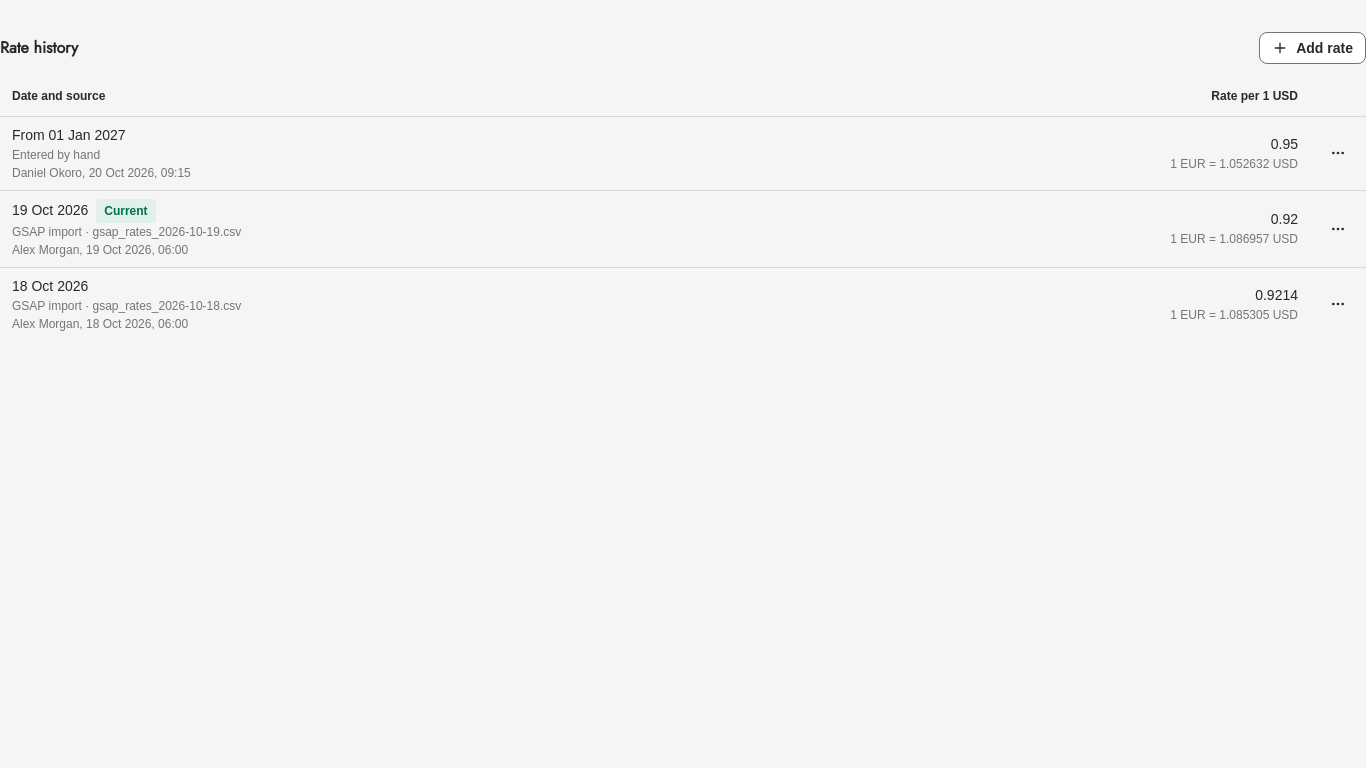
Scenario: RateDialog: Edit (016 FR-003) › keeps the rate's date and saves the rate with its version
The image size is (1366, 768).
expect the table is shown: met, box [0,76,1365,340]
Click the button named "Actions for the rate of 01 Jan 2027" at point(1338, 153), box [1322,137,1354,169]
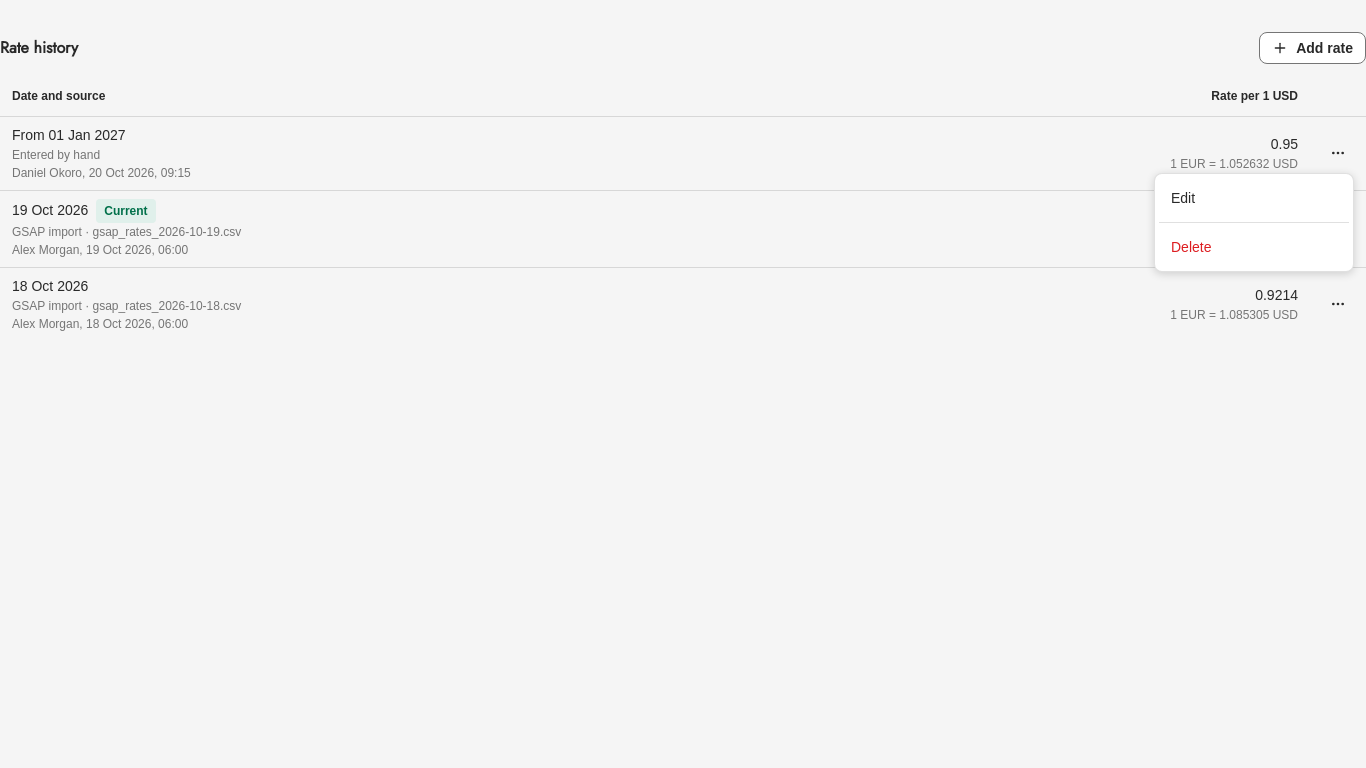
Click the menu item "Edit" at point(1183, 198), box [1171,190,1195,206]
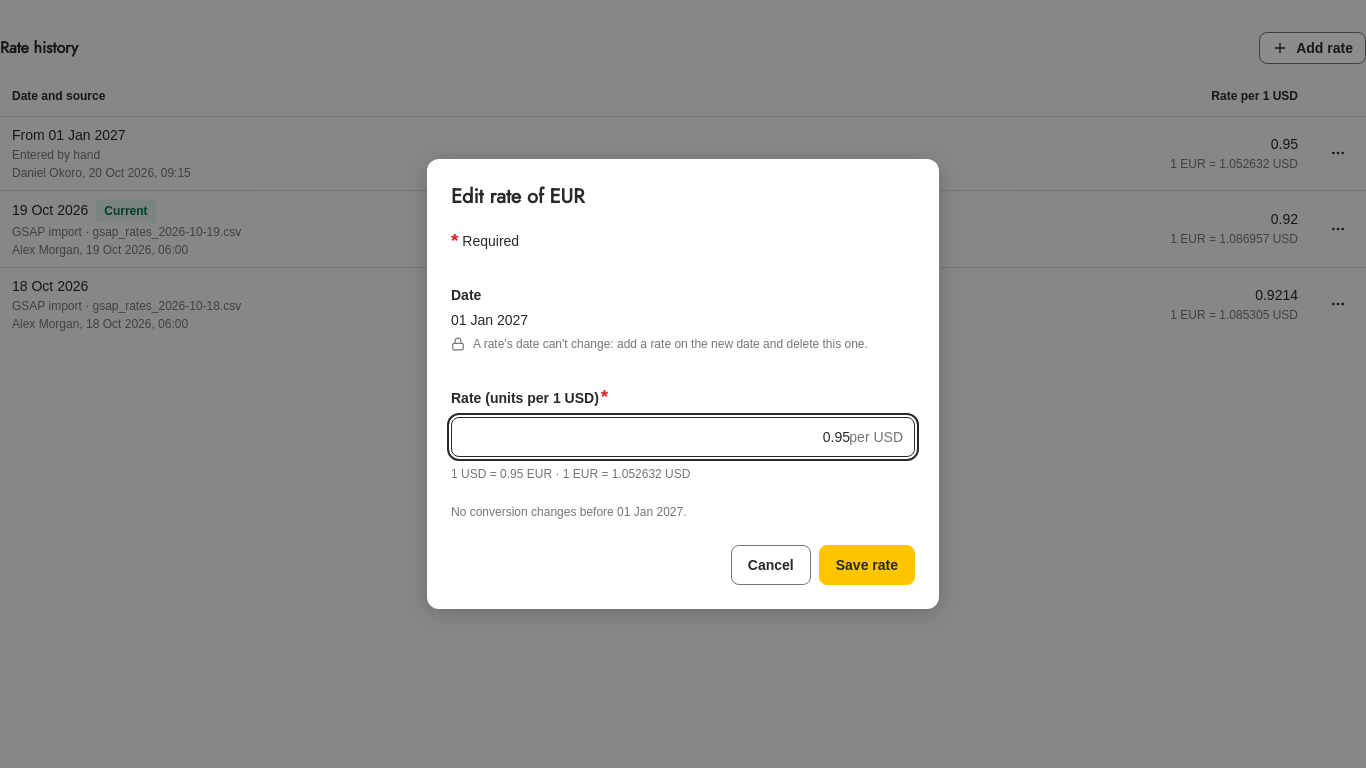
expect the dialog "Edit rate of EUR" shows "A rate's date can't change": met, box [473,337,868,351]
expect the dialog "Edit rate of EUR" shows "No conversion changes before 01 Jan 2027.": met, box [451,505,686,519]
Clear the field labelled "Rate (units per 1 USD)" at point(683, 437), box [451,417,915,457]
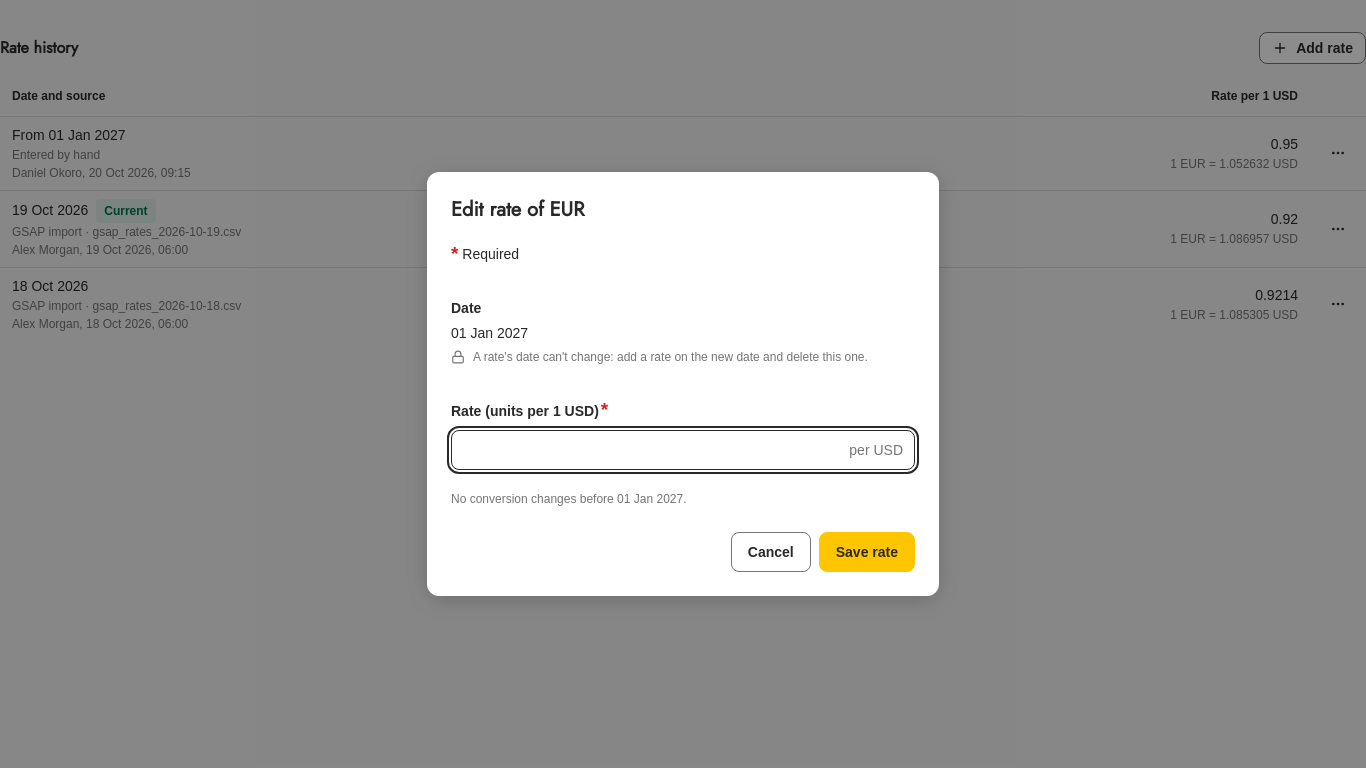
Type "0.96" into the field labelled "Rate (units per 1 USD)" at point(683, 450), box [451,430,915,470]
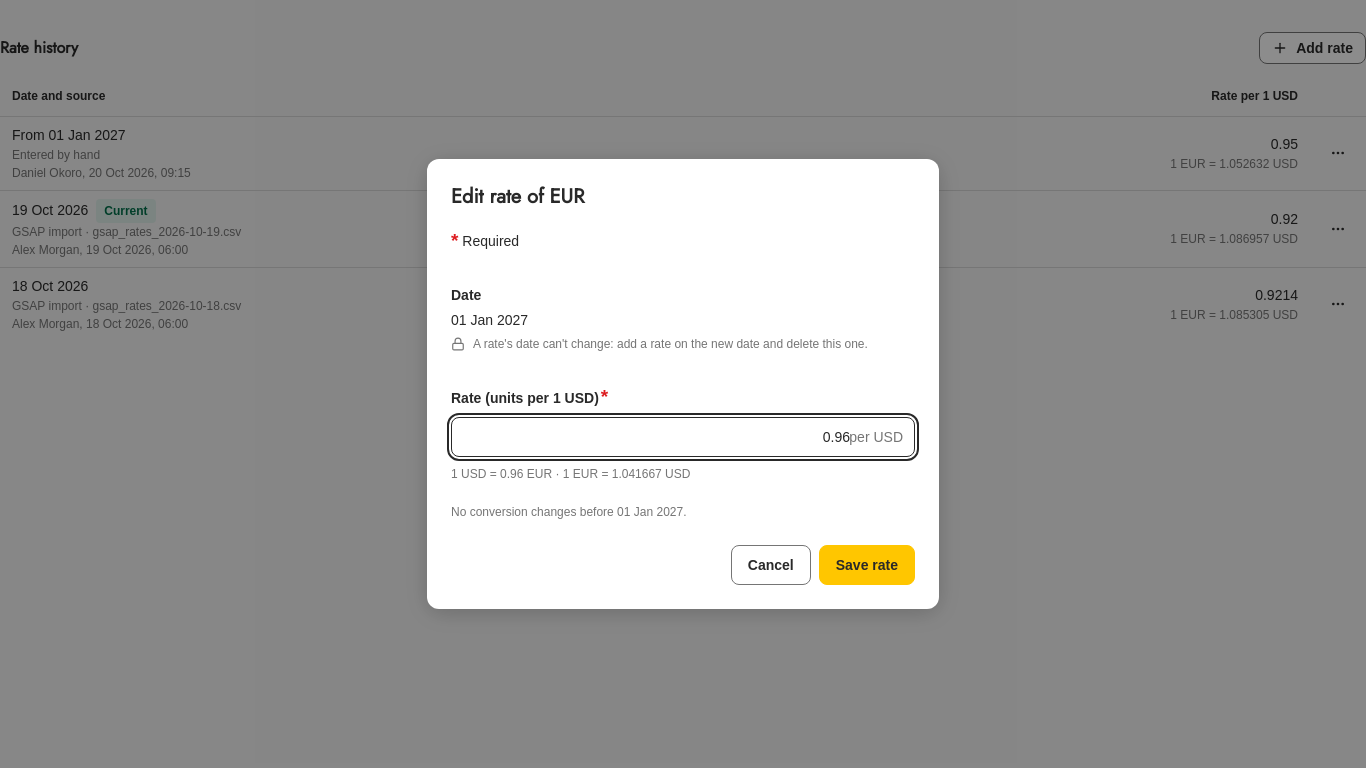
Click the button "Save rate" at point(867, 565), box [819,545,915,585]
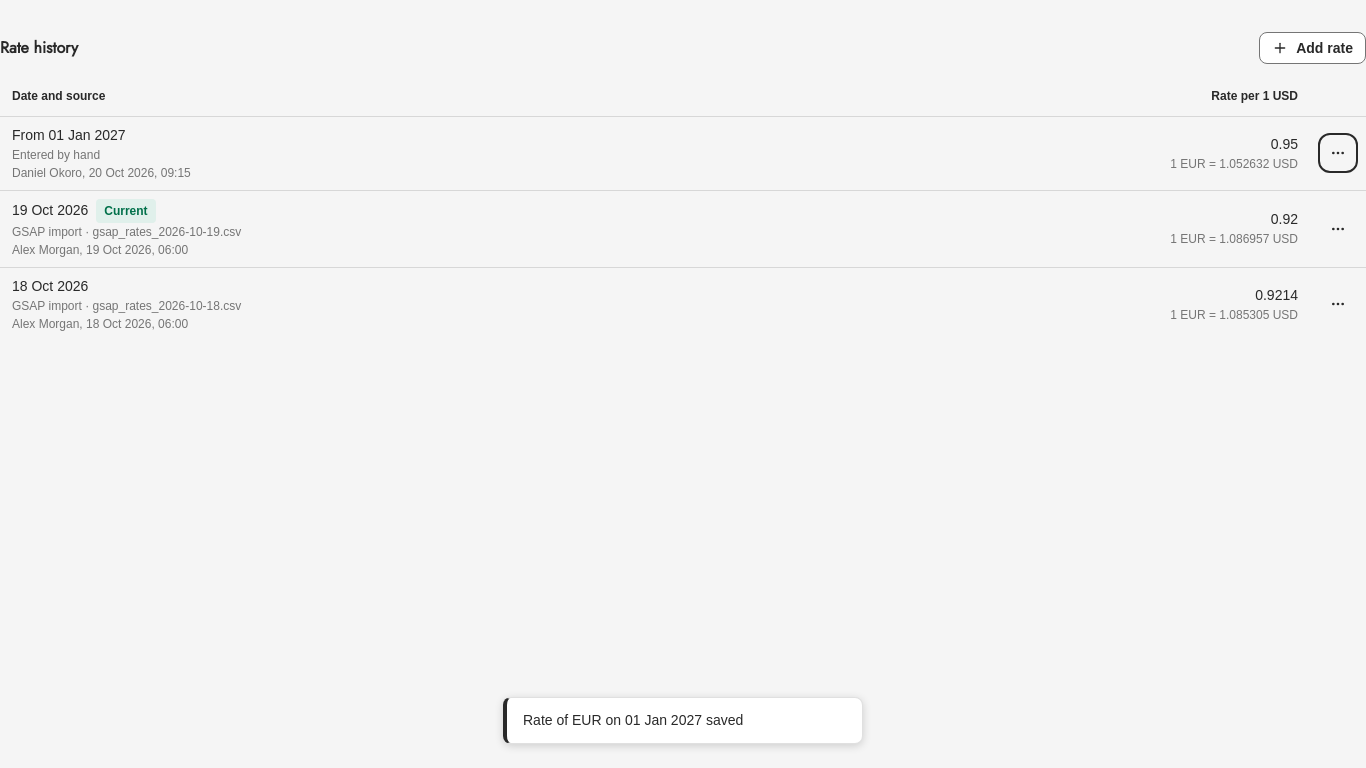
expect the dialog is gone: met
